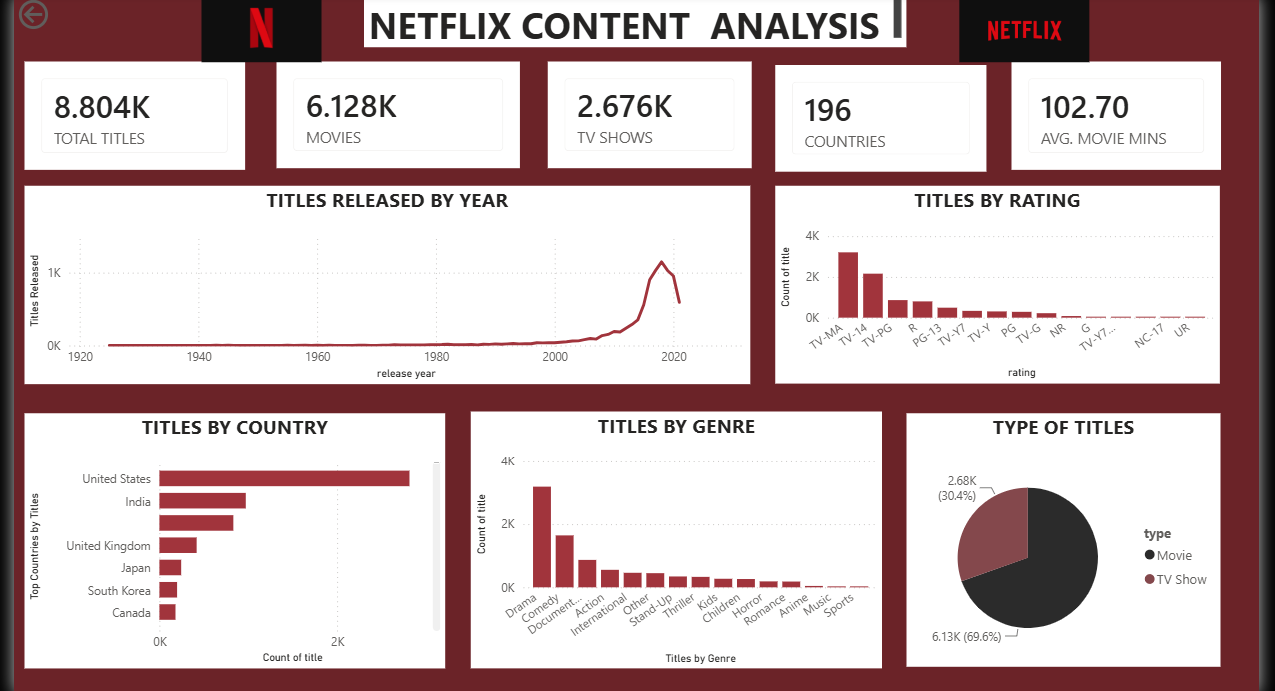

What the dashboard file says about the page in this screenshot:
{"tool":"powerbi","page":{"name":"Page 1","canvas":[1280,720],"ordinal":0},"visuals":[{"type":"textbox","box":[359.6,0,557.7,53.8],"z":0},{"type":"cardVisual","fields":{"Data":["CountNonNull(Netflix-Content-Analysis  - netflix_titles.title)"]},"box":[11.5,69.2,226.9,111.5],"z":1000},{"type":"cardVisual","fields":{"Data":["CountNonNull(Netflix-Content-Analysis  - netflix_titles.title)"]},"box":[269.2,69.2,250,109.6],"z":2000},{"type":"cardVisual","fields":{"Data":["CountNonNull(Netflix-Content-Analysis  - netflix_titles.title)"]},"box":[548.1,69.2,209.6,109.6],"z":3000},{"type":"cardVisual","fields":{"Data":["Count(Country table.country)"]},"box":[782.7,71.2,217.3,109.6],"z":4000},{"type":"cardVisual","fields":{"Data":["Avg(Netflix-Content-Analysis  - netflix_titles.Movie mins )"]},"box":[1025,69.2,215.4,111.5],"z":5000},{"type":"actionButton","box":[0,0,100,40],"z":6000},{"type":"lineChart","title":"TITLES RELEASED BY YEAR","fields":{"Category":["Netflix-Content-Analysis  - netflix_titles.release_year"],"Y":["CountNonNull(Netflix-Content-Analysis  - netflix_titles.title)"]},"box":[11.5,196.2,746.2,203.8],"z":7000},{"type":"pieChart","title":"TYPE OF TITLES","fields":{"Category":["Netflix-Content-Analysis  - netflix_titles.type"],"Y":["CountNonNull(Netflix-Content-Analysis  - netflix_titles.title)"]},"box":[917.3,430.8,323.1,261.5],"z":8000},{"type":"clusteredBarChart","title":"TITLES BY COUNTRY","fields":{"Category":["Netflix-Content-Analysis  - netflix_titles.country"],"Y":["CountNonNull(Netflix-Content-Analysis  - netflix_titles.title)"]},"box":[11.5,430.8,432.7,263.5],"z":9000},{"type":"columnChart","title":"TITLES BY GENRE","fields":{"Y":["CountNonNull(Netflix-Content-Analysis  - netflix_titles.title)"],"Category":["Netflix-Content-Analysis  - netflix_titles.Genre Group"]},"box":[469.2,428.8,423.1,265.4],"z":10000},{"type":"clusteredColumnChart","title":"TITLES BY RATING","fields":{"Y":["CountNonNull(Netflix-Content-Analysis  - netflix_titles.title)"],"Category":["Netflix-Content-Analysis  - netflix_titles.rating"]},"box":[783.2,196.9,457.2,203.2],"z":11000},{"type":"image","box":[100,0,307.7,69.2],"z":12000},{"type":"image","box":[917.3,0,242.3,69.2],"z":13000}]}

Visuals, with their boxes in screenshot pixels (x1, y1, x2, y2):
textbox: select_region(356, 0, 903, 43)
cardVisual - CountNonNull(Netflix-Content-Analysis  - netflix_titles.title): select_region(15, 58, 237, 167)
cardVisual - CountNonNull(Netflix-Content-Analysis  - netflix_titles.title): select_region(267, 58, 513, 165)
cardVisual - CountNonNull(Netflix-Content-Analysis  - netflix_titles.title): select_region(541, 58, 746, 165)
cardVisual - Count(Country table.country): select_region(771, 60, 984, 167)
cardVisual - Avg(Netflix-Content-Analysis  - netflix_titles.Movie mins ): select_region(1009, 58, 1220, 167)
actionButton: select_region(3, 0, 101, 29)
"TITLES RELEASED BY YEAR" lineChart: select_region(15, 182, 746, 382)
"TYPE OF TITLES" pieChart: select_region(903, 413, 1220, 669)
"TITLES BY COUNTRY" clusteredBarChart: select_region(15, 413, 439, 671)
"TITLES BY GENRE" columnChart: select_region(463, 411, 878, 671)
"TITLES BY RATING" clusteredColumnChart: select_region(771, 183, 1220, 382)
image: select_region(101, 0, 403, 58)
image: select_region(903, 0, 1141, 58)
